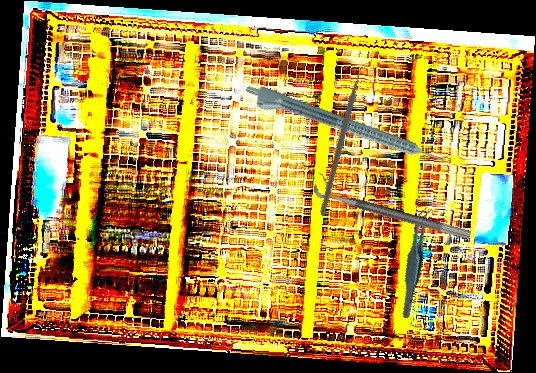Chopper: (282, 59, 412, 217)
Fixation Ring: (311, 172, 476, 241)
Handpiece: (241, 80, 447, 177)
Tissue Forceps: (379, 204, 452, 320)
